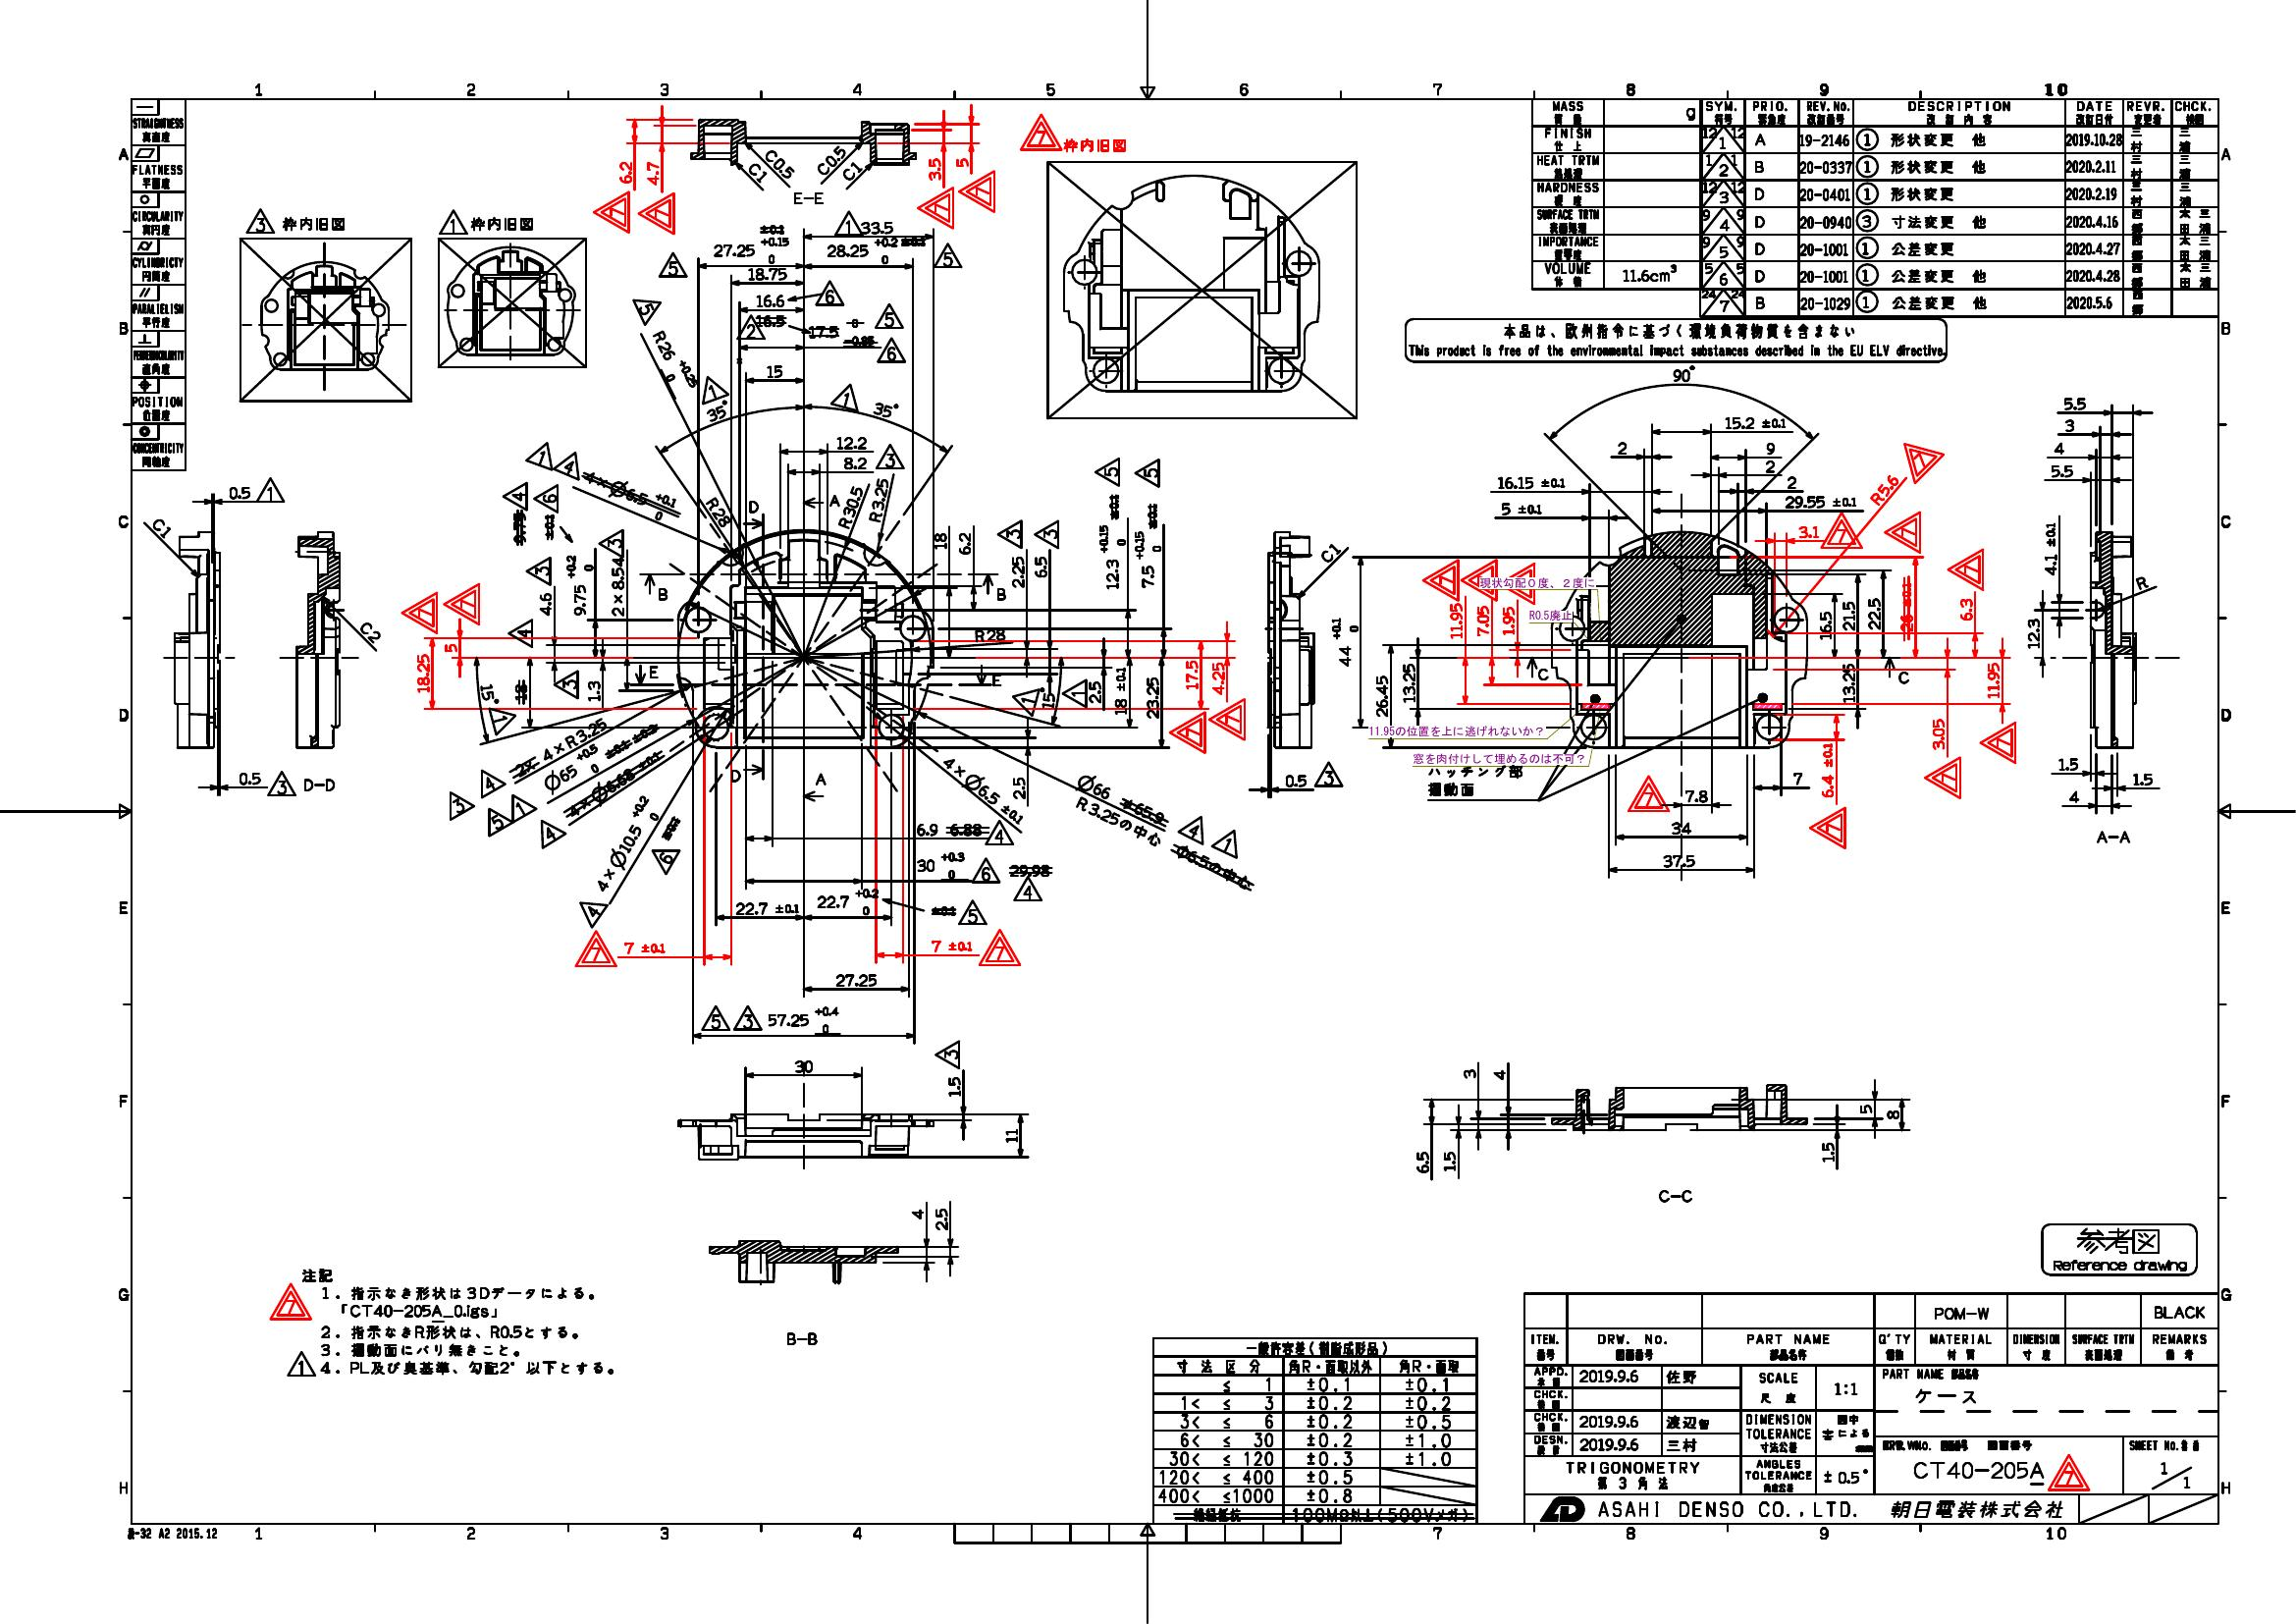anntotation_text: (267, 1265, 617, 1378), (1404, 316, 1948, 364), (2040, 1220, 2199, 1278), (1365, 722, 1548, 740), (1411, 749, 1588, 766), (1072, 810, 1166, 831), (1165, 710, 1207, 756), (956, 169, 998, 214), (1881, 508, 1924, 554), (397, 589, 439, 634), (1476, 575, 1597, 591), (1897, 434, 1939, 478), (1976, 721, 2018, 765), (1419, 559, 1463, 601), (636, 190, 676, 236), (1017, 112, 1063, 153), (1818, 510, 1864, 550), (1623, 773, 1669, 814), (1458, 555, 1498, 601), (913, 186, 956, 228), (439, 582, 480, 626), (1209, 696, 1247, 742), (1924, 756, 1962, 801), (592, 190, 631, 234), (1945, 547, 1983, 591), (1809, 807, 1848, 851), (573, 928, 617, 967), (1498, 559, 1535, 605), (1425, 765, 1523, 779), (1063, 135, 1126, 155), (467, 214, 536, 232), (931, 1037, 964, 1070), (873, 334, 908, 364), (264, 768, 299, 798), (281, 214, 346, 230), (499, 480, 531, 511), (873, 441, 906, 471), (571, 895, 604, 924), (552, 668, 581, 701), (531, 482, 560, 515), (954, 898, 989, 926), (631, 297, 662, 327), (1312, 759, 1344, 789), (984, 817, 1015, 847), (523, 555, 553, 587), (697, 1002, 729, 1032), (731, 1002, 762, 1032), (255, 475, 286, 504), (831, 209, 864, 237), (1031, 515, 1059, 548), (1061, 675, 1089, 708), (531, 817, 564, 845), (873, 302, 906, 330), (931, 241, 964, 269), (1425, 780, 1477, 798), (478, 807, 513, 833), (244, 206, 274, 236), (994, 518, 1024, 548), (487, 707, 516, 736), (436, 207, 467, 236), (657, 250, 689, 278), (1212, 828, 1244, 856), (1131, 457, 1159, 489), (1010, 684, 1038, 715), (970, 856, 1001, 884), (506, 617, 534, 649), (831, 381, 864, 408), (1093, 457, 1121, 487), (650, 847, 680, 875), (446, 791, 474, 821), (597, 527, 625, 557), (555, 450, 585, 478), (1179, 814, 1210, 840), (480, 766, 506, 798), (813, 279, 845, 306), (529, 439, 557, 468), (1012, 875, 1042, 902), (502, 793, 532, 819), (697, 374, 727, 401), (734, 315, 766, 339), (1527, 606, 1574, 622), (782, 1329, 820, 1346), (1657, 1186, 1693, 1204), (2092, 828, 2133, 844), (302, 775, 336, 793), (792, 190, 826, 206), (655, 584, 671, 605), (1895, 668, 1913, 685), (991, 584, 1007, 603), (989, 670, 1005, 685), (727, 766, 741, 784), (1535, 666, 1549, 682), (826, 492, 840, 508), (747, 497, 759, 515), (812, 772, 826, 786), (648, 664, 661, 680)
dimension_text: (571, 828, 680, 858), (711, 236, 792, 265), (1096, 520, 1128, 594), (1131, 529, 1166, 594), (764, 1005, 840, 1035), (824, 236, 899, 265), (638, 346, 711, 376), (562, 552, 594, 617), (538, 754, 606, 784), (933, 782, 1036, 801), (813, 888, 878, 916), (1326, 613, 1360, 668), (915, 849, 964, 882), (1781, 492, 1859, 511), (536, 729, 615, 747), (733, 898, 801, 917), (409, 649, 436, 698), (1495, 475, 1569, 492), (608, 557, 627, 622), (1723, 413, 1785, 432), (829, 968, 880, 991), (1816, 742, 1836, 801), (2041, 520, 2061, 576), (1142, 673, 1163, 722), (1205, 657, 1230, 700), (1112, 664, 1130, 717), (1498, 499, 1546, 518), (856, 490, 903, 510), (1077, 775, 1114, 800), (2024, 615, 2047, 654), (1005, 772, 1029, 807), (824, 497, 877, 513), (1446, 599, 1465, 642), (620, 939, 666, 956), (1839, 659, 1857, 705), (748, 265, 789, 285), (1372, 673, 1390, 717), (928, 937, 975, 953), (1474, 603, 1493, 642), (1007, 552, 1026, 591), (1182, 659, 1203, 694), (1866, 480, 1903, 499), (1864, 594, 1883, 631), (859, 216, 896, 236), (1983, 659, 2001, 700), (1400, 661, 1416, 705), (761, 155, 799, 172), (697, 504, 736, 522), (476, 682, 502, 707), (1658, 851, 1695, 868), (1498, 605, 1518, 638), (1838, 599, 1857, 633), (834, 434, 870, 452), (813, 153, 852, 169), (1816, 608, 1834, 642), (615, 156, 634, 186), (942, 1074, 964, 1098), (973, 626, 1005, 643), (915, 819, 942, 840), (2127, 768, 2154, 789), (2048, 460, 2075, 482), (1931, 715, 1946, 750), (873, 399, 899, 420), (1957, 596, 1976, 624), (1669, 364, 1697, 383), (641, 160, 661, 188), (954, 529, 973, 557), (1031, 552, 1051, 580), (1818, 1135, 1836, 1165), (754, 290, 783, 308), (534, 591, 553, 617), (1084, 678, 1103, 705), (225, 483, 251, 503), (149, 515, 176, 534), (1681, 786, 1708, 805), (929, 1204, 949, 1230), (2061, 395, 2089, 413), (583, 677, 603, 701), (237, 770, 262, 789), (791, 1056, 815, 1076), (1439, 1149, 1458, 1174), (1318, 545, 1344, 562), (841, 453, 868, 471), (1281, 772, 1309, 787), (926, 155, 942, 183), (706, 402, 729, 422), (357, 624, 381, 642), (1414, 1149, 1432, 1174), (841, 163, 866, 181), (929, 529, 949, 550), (747, 162, 769, 179), (1669, 819, 1693, 835), (2057, 756, 2082, 772), (1001, 1125, 1019, 1146), (762, 360, 783, 378), (1488, 1065, 1507, 1083), (439, 640, 460, 656), (2066, 786, 2082, 807), (2061, 415, 2076, 436), (1857, 1100, 1874, 1118), (1613, 438, 1628, 457), (1040, 689, 1054, 710), (1790, 768, 1806, 786), (1883, 1106, 1899, 1123), (1460, 1065, 1479, 1079), (952, 155, 971, 169), (1764, 438, 1776, 459), (2134, 575, 2150, 591), (2052, 439, 2068, 455), (912, 1204, 926, 1222), (1785, 473, 1799, 490), (1764, 457, 1776, 475)
object: (1059, 172, 1323, 395), (675, 526, 935, 749), (1549, 531, 1809, 750), (444, 244, 578, 357), (260, 258, 390, 373), (675, 1111, 936, 1162), (1549, 1083, 1809, 1134), (170, 529, 225, 750), (1265, 526, 1318, 750), (689, 116, 919, 167), (2087, 529, 2140, 750), (293, 529, 343, 750), (704, 1237, 901, 1285)
title_block: (1521, 1290, 2220, 1526), (1528, 95, 2220, 318), (1151, 1334, 1479, 1526), (128, 97, 186, 473)
